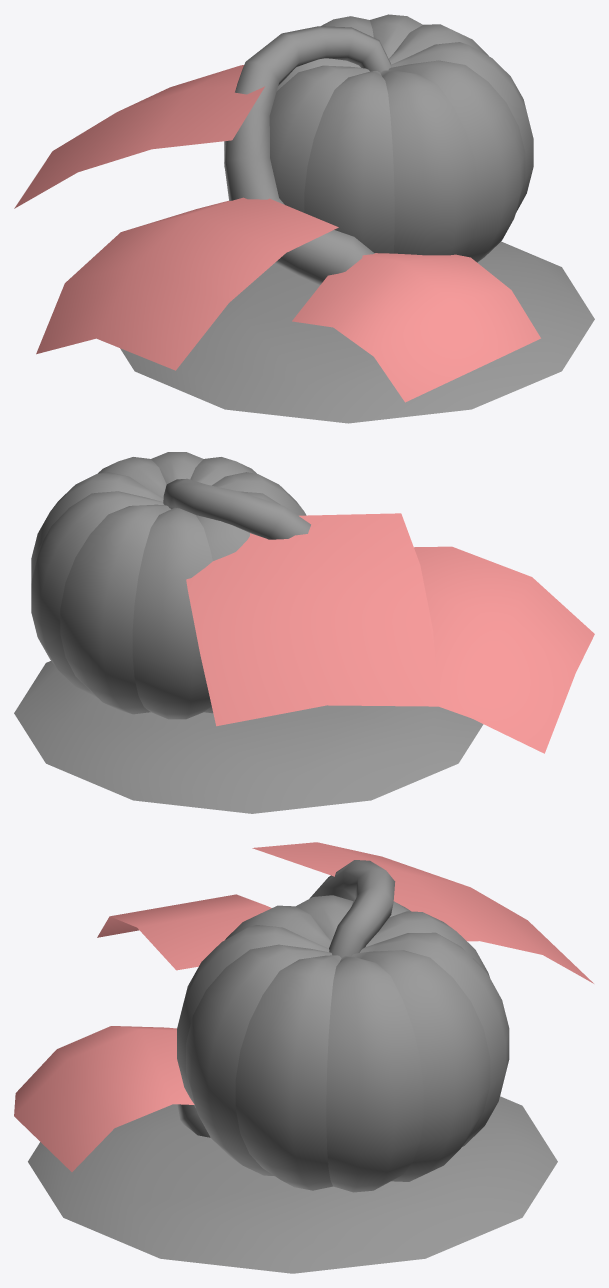
File: GrowPumkin3.fbx
3 renders of one model, top to bottom at view 1: azimuth 30°, elevation 25°; view 2: azimuth 150°, elevation 25°; view 3: azimuth 270°, elevation 25°, orthographic. The views are drawn at different scales.
Visible parts, largest first — view 1: SM_Pumpkin_Grow03; view 2: SM_Pumpkin_Grow03; view 3: SM_Pumpkin_Grow03.
Part boxes in pixels (left/top/right/bottom): SM_Pumpkin_Grow03: left=14, top=14, right=594, bottom=423; SM_Pumpkin_Grow03: left=14, top=452, right=594, bottom=813; SM_Pumpkin_Grow03: left=14, top=842, right=593, bottom=1273.
Size of the model in its own units: 121 by 64.92 by 109.
